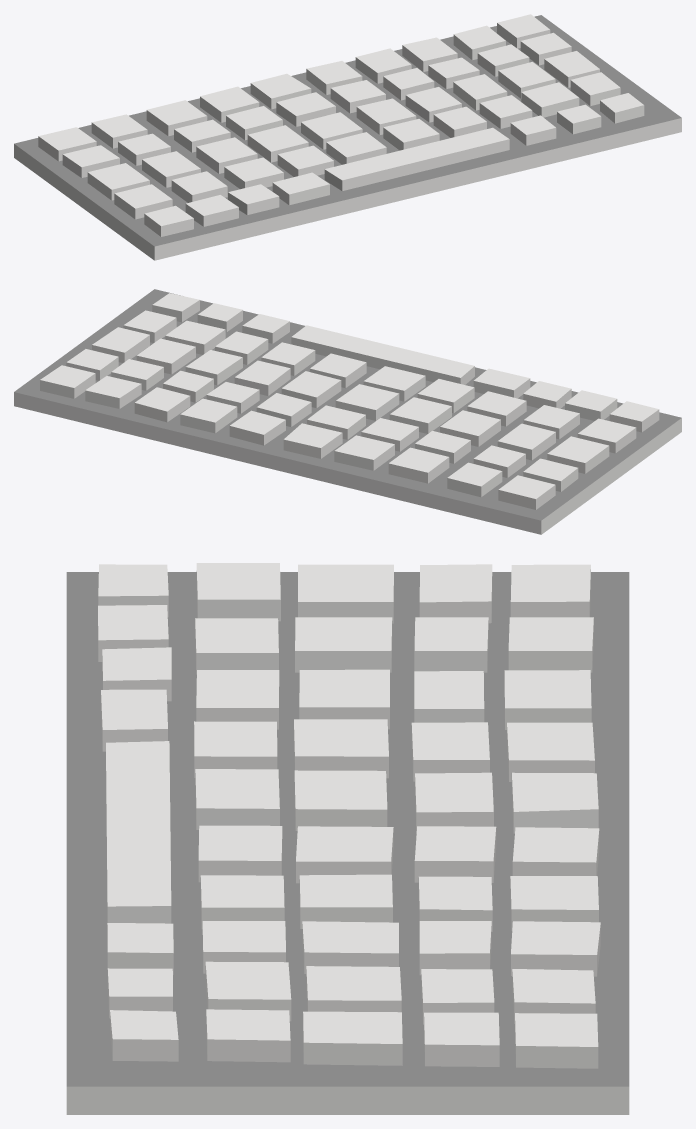
File: Keyboard_1.fbx
3 renders of one model, top to bottom at view 1: azimuth 30°, elevation 25°; view 2: azimuth 150°, elevation 25°; view 3: azimuth 270°, elevation 25°, orthographic. The views are drawn at different scales.
Visible parts, largest first — view 1: Keyboard_1; view 2: Keyboard_1; view 3: Keyboard_1.
Boxes of the visible parts, box(x1,y1,x2,y2) form: Keyboard_1: box(14, 14, 681, 260); Keyboard_1: box(14, 289, 681, 534); Keyboard_1: box(66, 563, 629, 1114).
Bounding box in the file's own units: 70.25 × 32.45 × 3.19.
